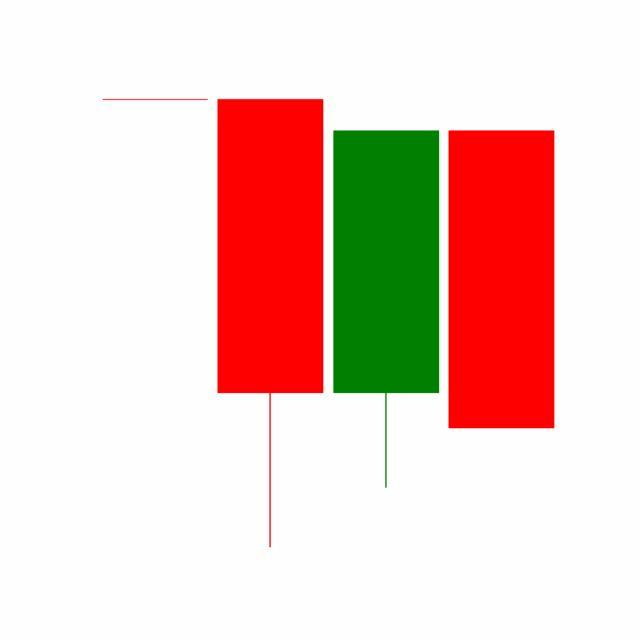Marubozu: (444, 128, 560, 432)
